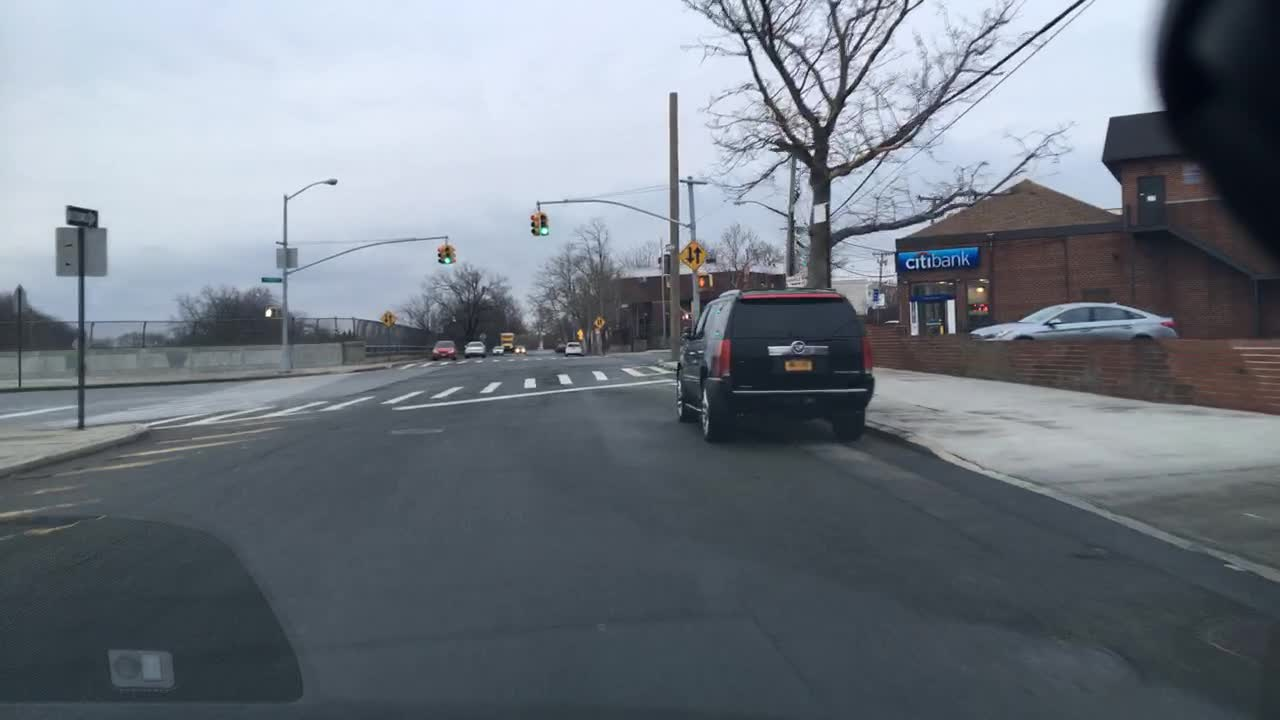car: (673, 287, 874, 442), (970, 300, 1178, 344), (428, 337, 457, 361), (460, 337, 486, 358), (565, 339, 584, 358), (511, 341, 526, 356), (489, 342, 504, 356), (552, 339, 565, 354)
traffic light: (695, 272, 712, 289), (538, 210, 548, 237), (263, 306, 280, 319), (529, 213, 538, 233), (450, 242, 458, 262), (443, 245, 452, 262), (437, 242, 443, 265)
traffic sign: (53, 226, 104, 275), (678, 240, 705, 269), (65, 203, 97, 226), (10, 287, 28, 312), (276, 247, 296, 269), (377, 309, 398, 328), (592, 313, 607, 329), (261, 275, 283, 284), (575, 326, 585, 340)
truck: (498, 329, 514, 353)
